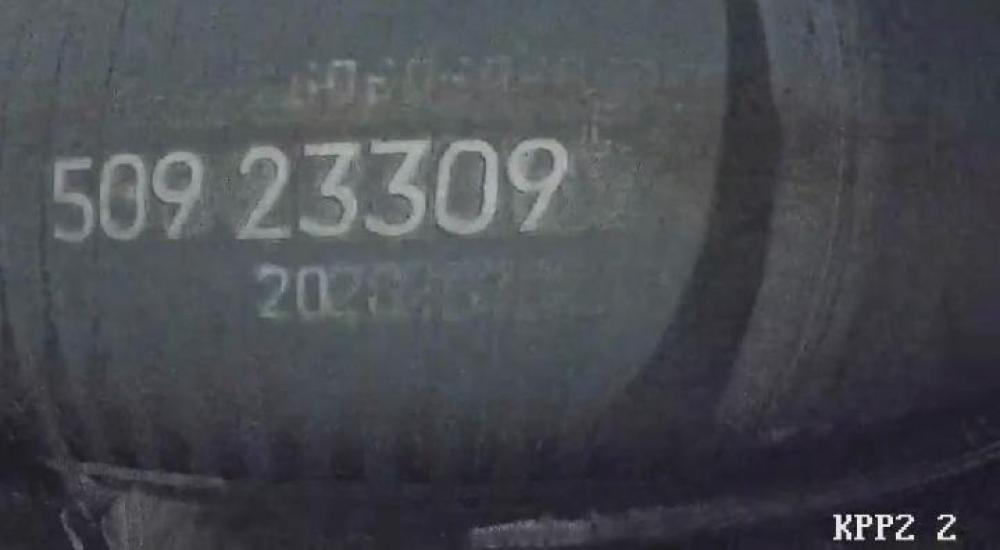Wagon-number: (44, 129, 578, 247)
